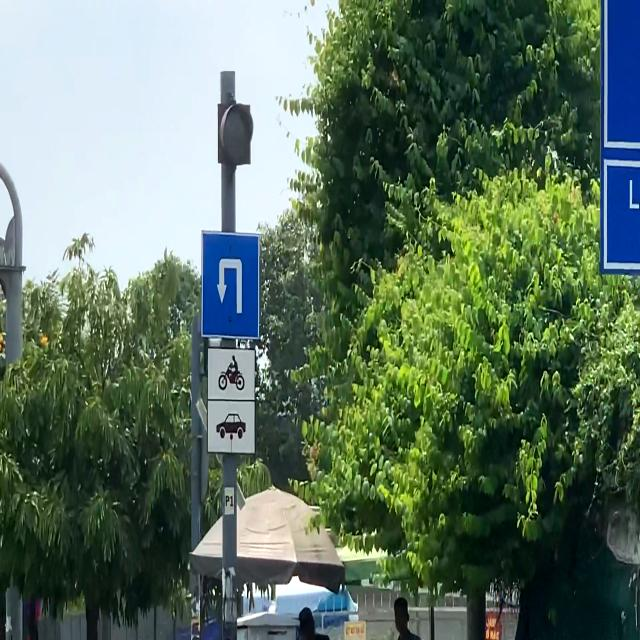R.409: (201, 229, 260, 339)
